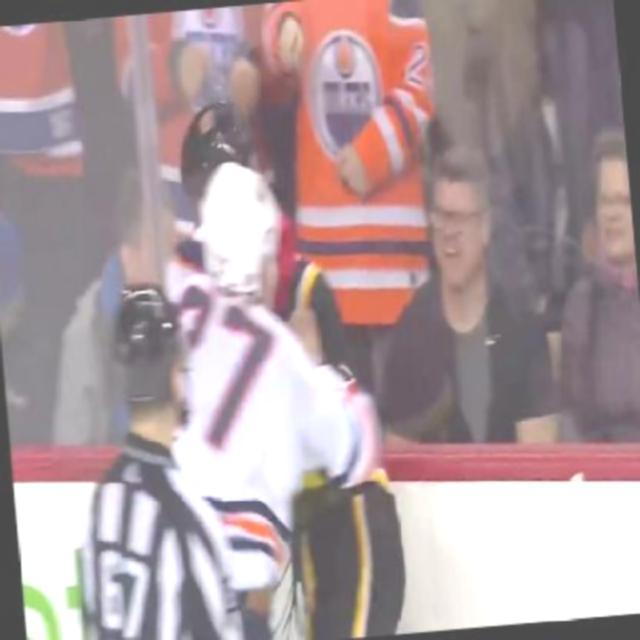fight: (148, 91, 404, 638)
non-fight: (361, 154, 564, 460), (546, 135, 639, 454)
